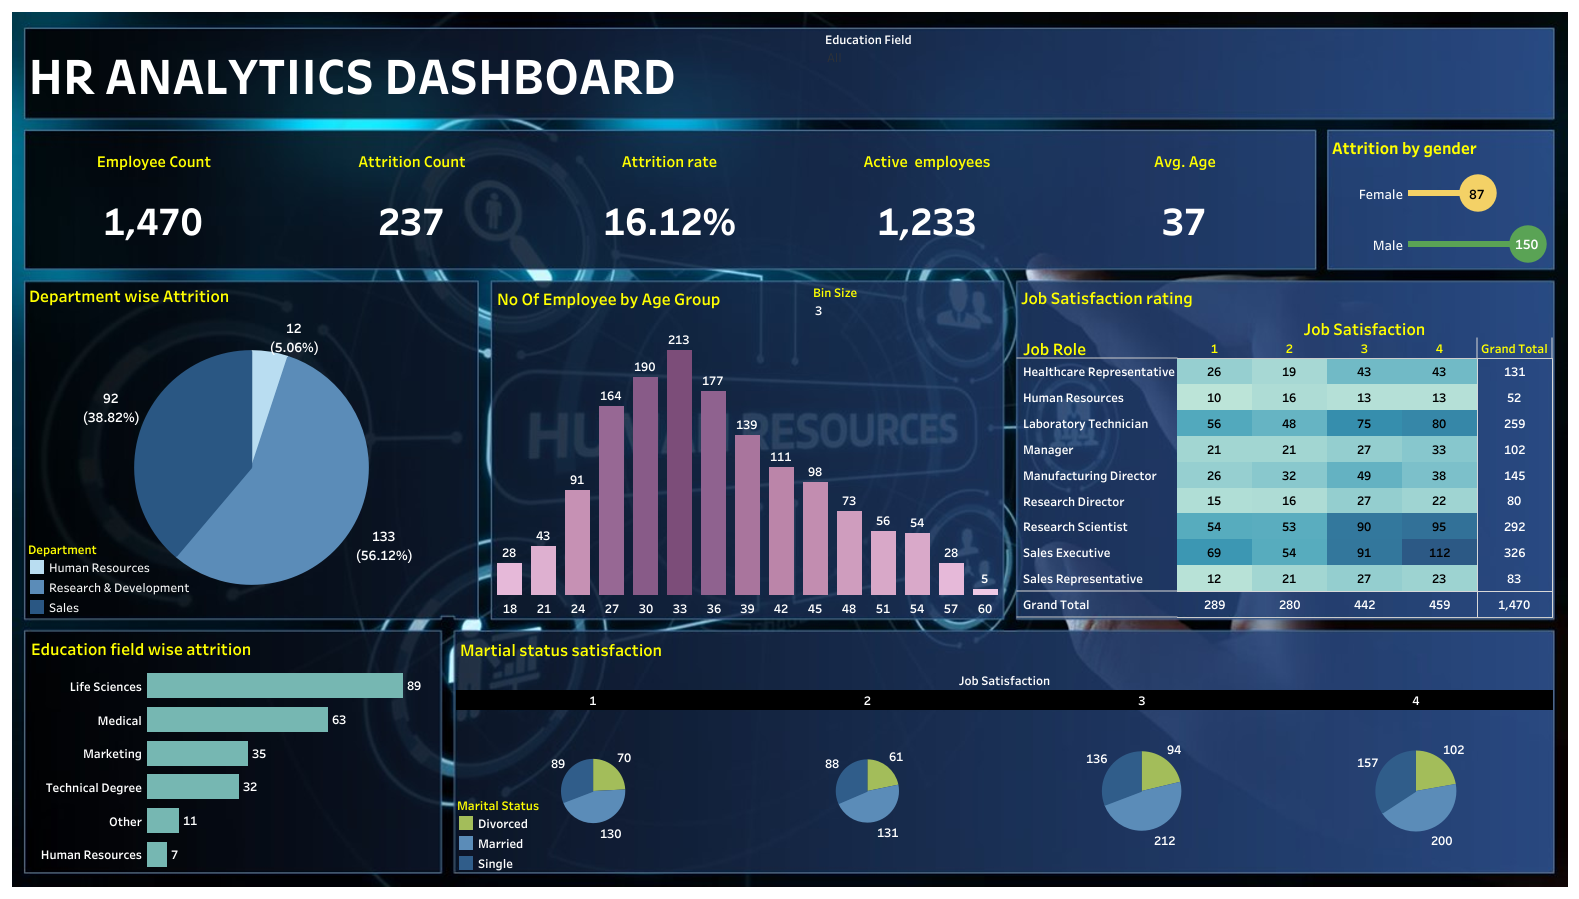

This screenshot's page, from the dashboard's own definition file:
{"tool":"tableau","page":{"name":"Dashboard 1","canvas":[1580,900],"ordinal":0},"visuals":[{"type":"image","param":"Image/Dashboard image.jpg","box":[8,8,1564,884]},{"type":"text","box":[26,29,686,89]},{"type":"filter","title":"Department wise Attrition","param":"[federated.0utgo2b1ymdghc0zmuozh13kash5].[none:EducationField:nk]","box":[825,29,256,90]},{"type":"worksheet","title":"Attrition by gender","mark":"Automatic","rows":["Gender"],"cols":["Calculation_609674861611323392","Calculation_609674861611323392"],"box":[1328,130,225,139]},{"type":"worksheet","title":"KPI","mark":"Automatic","box":[25,131,1289,137]},{"type":"worksheet","title":"Department wise Attrition","mark":"Pie","box":[25,278,453,341]},{"type":"worksheet","title":"Job Satisfaction rating","mark":"Square","rows":["JobRole"],"cols":["JobSatisfaction"],"box":[1017,280,536,338]},{"type":"worksheet","title":"No Of Employee by Age Group","mark":"Automatic","rows":["EmployeeCount"],"cols":["Age (bin)"],"box":[493,281,509,336]},{"type":"parameter","param":"[Parameters].[Parameter 1]","box":[813,282,188,50]},{"type":"legend","title":"Department wise Attrition","param":"[federated.0utgo2b1ymdghc0zmuozh13kash5].[none:Department:nk]","box":[27,538,173,78]},{"type":"worksheet","title":"Education field wise attrition","mark":"Automatic","rows":["EducationField"],"cols":["Calculation_609674861611323392"],"box":[27,631,413,240]},{"type":"worksheet","title":"Martial status satisfaction","mark":"Pie","cols":["JobSatisfaction"],"box":[456,632,1097,240]},{"type":"legend","title":"Martial status satisfaction","param":"[federated.0utgo2b1ymdghc0zmuozh13kash5].[none:MaritalStatus:nk]","box":[456,794,100,79]}]}

Visuals, with their boxes in screenshot pixels (x1, y1, x2, y2), scaled from the page's 1580x900 canvas onto the 1579x899 screenshot:
image: 8, 8, 1571, 891
text: 26, 29, 712, 118
"Department wise Attrition" filter: 824, 29, 1080, 119
"Attrition by gender" worksheet: 1327, 130, 1552, 269
"KPI" worksheet: 25, 131, 1313, 268
"Department wise Attrition" worksheet (Pie marks): 25, 278, 478, 618
"Job Satisfaction rating" worksheet (Square marks): 1016, 280, 1552, 617
"No Of Employee by Age Group" worksheet: 493, 281, 1001, 616
parameter: 812, 282, 1000, 332
"Department wise Attrition" legend: 27, 537, 200, 615
"Education field wise attrition" worksheet: 27, 630, 440, 870
"Martial status satisfaction" worksheet (Pie marks): 456, 631, 1552, 871
"Martial status satisfaction" legend: 456, 793, 556, 872
